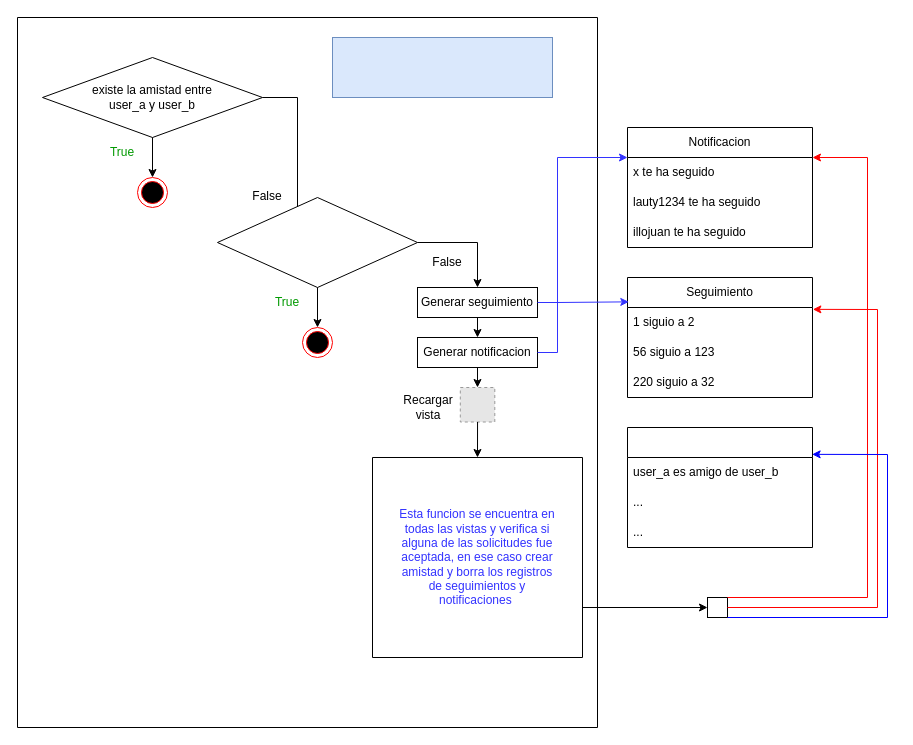
The diagram is 913 pixels wide and 745 high, and some of its shapes have lost their labels. Grey dashed boxes stand in for pictures. Each missing label, with the box of its shape:
Accion: user_a siguio a user_b: (332, 36, 552, 98)
Amigos: (626, 426, 812, 548)
existe el seguimiento "user_a sigue a user_b": (216, 196, 418, 288)
